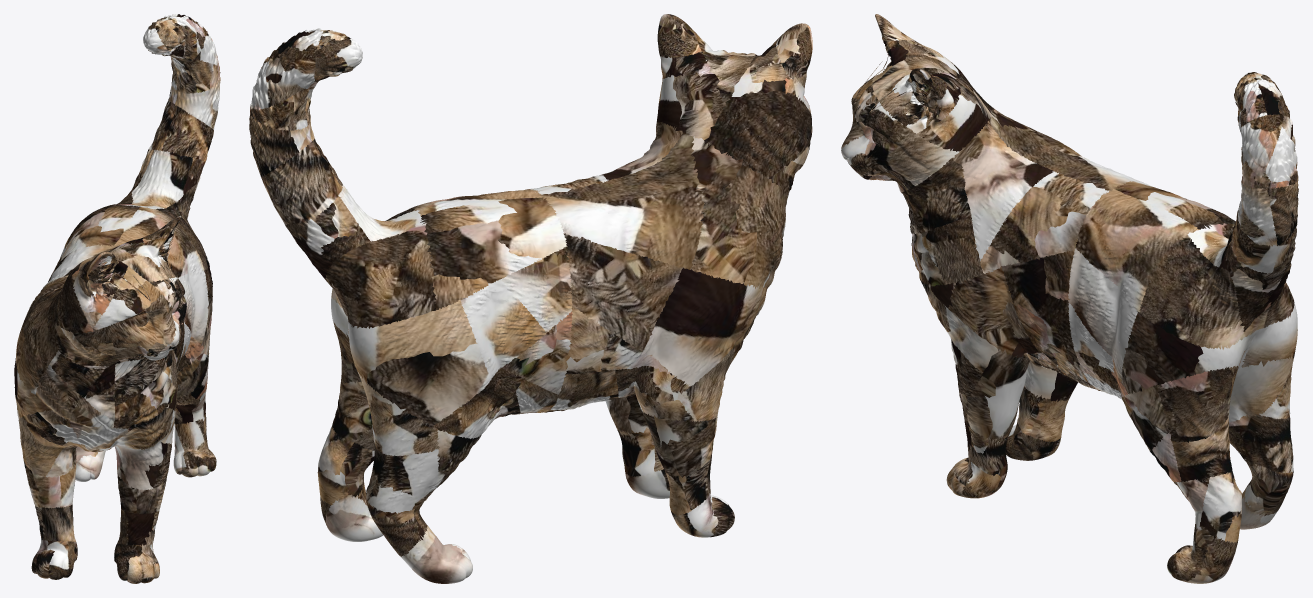
The model's file is v-cat-weld.glb.
3 renders of one model, left to right at view 1: azimuth 30°, elevation 25°; view 2: azimuth 150°, elevation 25°; view 3: azimuth 270°, elevation 25°, orthographic. The views are drawn at different scales.
Bounding box in the file's own units: 0.3735 × 0.5 × 0.4146.
1 material, 1 textured.
